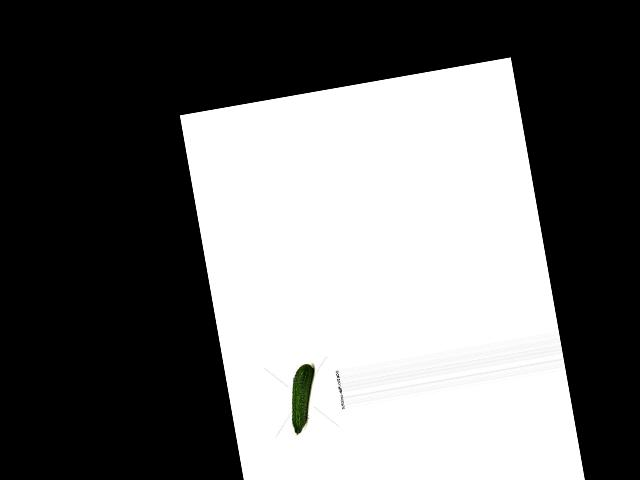cucumber: (283, 363, 324, 435)
